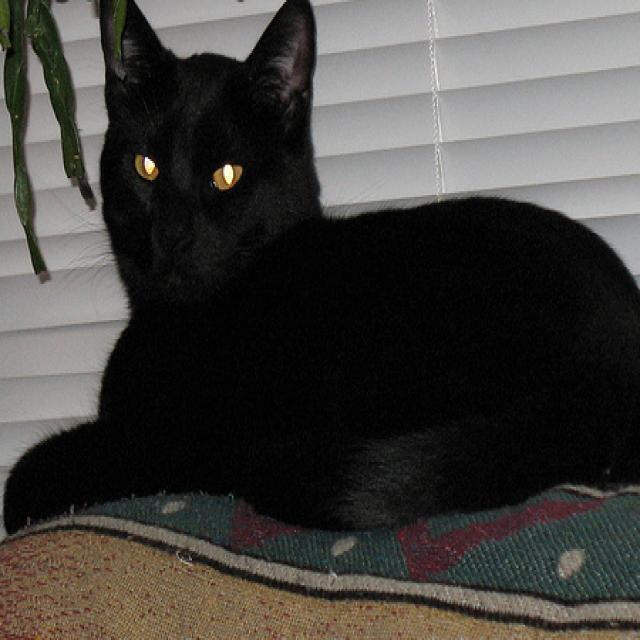Bombay: (0, 0, 640, 542)
